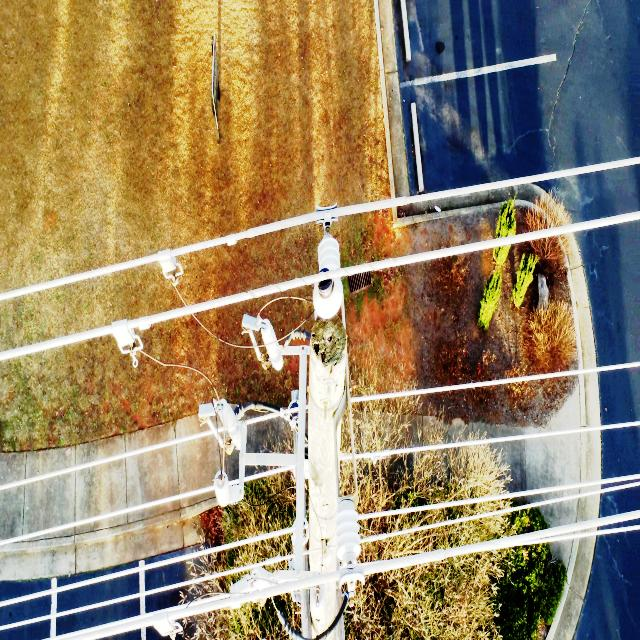poles: (198, 206, 360, 572), (291, 581, 342, 636)
wires: (118, 241, 500, 331), (358, 510, 640, 579), (333, 158, 640, 219), (49, 583, 300, 640), (0, 429, 215, 491), (0, 430, 214, 491), (0, 486, 213, 546), (350, 362, 640, 403), (0, 251, 166, 300), (167, 211, 326, 258), (0, 323, 116, 361), (467, 421, 640, 444), (535, 158, 640, 179), (231, 403, 298, 428), (568, 213, 640, 232), (579, 362, 640, 375), (302, 571, 341, 584), (484, 180, 526, 189), (529, 231, 564, 240), (523, 55, 555, 64), (199, 404, 214, 420)
